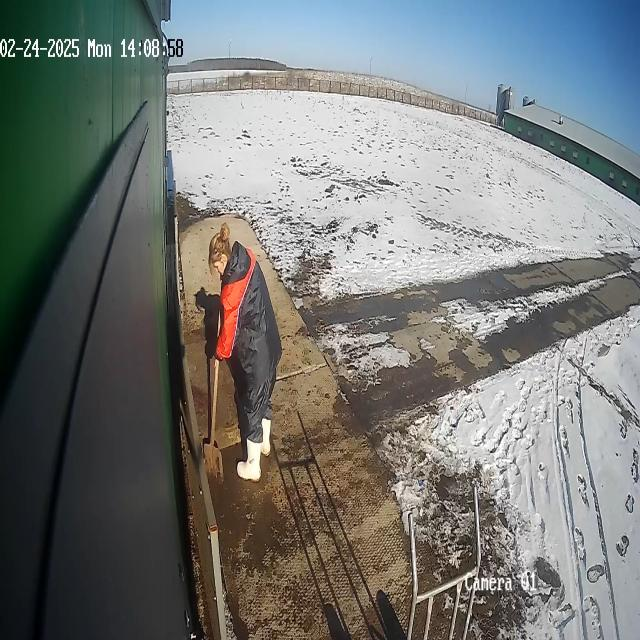Red uniform: (205, 222, 284, 485)
